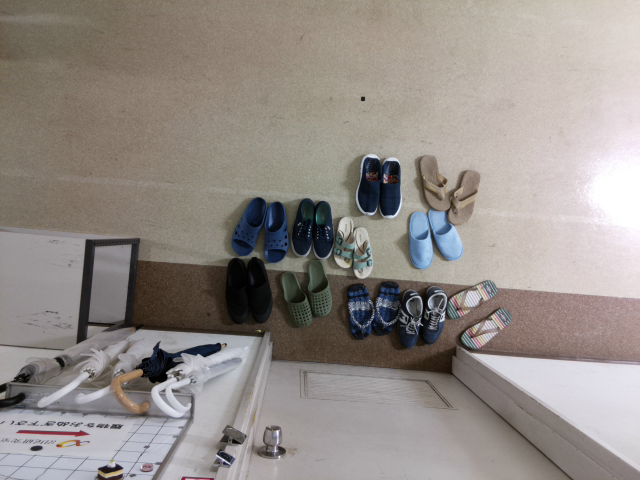Copy of Copy of Copy of Copy of Copy of Copy of Copy of Copy of Copy of Copy of: (457, 303, 514, 353), (442, 276, 503, 322), (240, 257, 276, 329), (218, 253, 254, 324), (229, 191, 268, 256), (390, 285, 426, 350), (415, 283, 450, 348), (278, 267, 314, 328), (300, 254, 333, 319), (260, 197, 291, 264), (343, 279, 377, 340), (366, 278, 400, 339)
Copy of Copy of Copy of Copy of Copy of Copy of Copy of Copy of Copy of shoe: (292, 194, 319, 257)
Copy of Copy of Copy of Copy of Copy of Copy of Copy of Copy of shoe: (307, 197, 334, 261)
Copy of Copy of Copy of Copy of Copy of Copy of Copy of shoe: (331, 214, 363, 274)
Copy of Copy of Copy of Copy of Copy of Copy of shoe: (346, 221, 377, 280)
Copy of Copy of Copy of Copy of Copy of shoe: (400, 208, 440, 270)
Copy of Copy of Copy of Copy of shoe: (425, 201, 465, 263)
Copy of Copy of Copy of shoe: (446, 163, 484, 228)
Copy of Copy of shoe: (415, 150, 452, 214)
Copy of shoe: (374, 153, 408, 220)
shoe: (351, 151, 384, 218)
